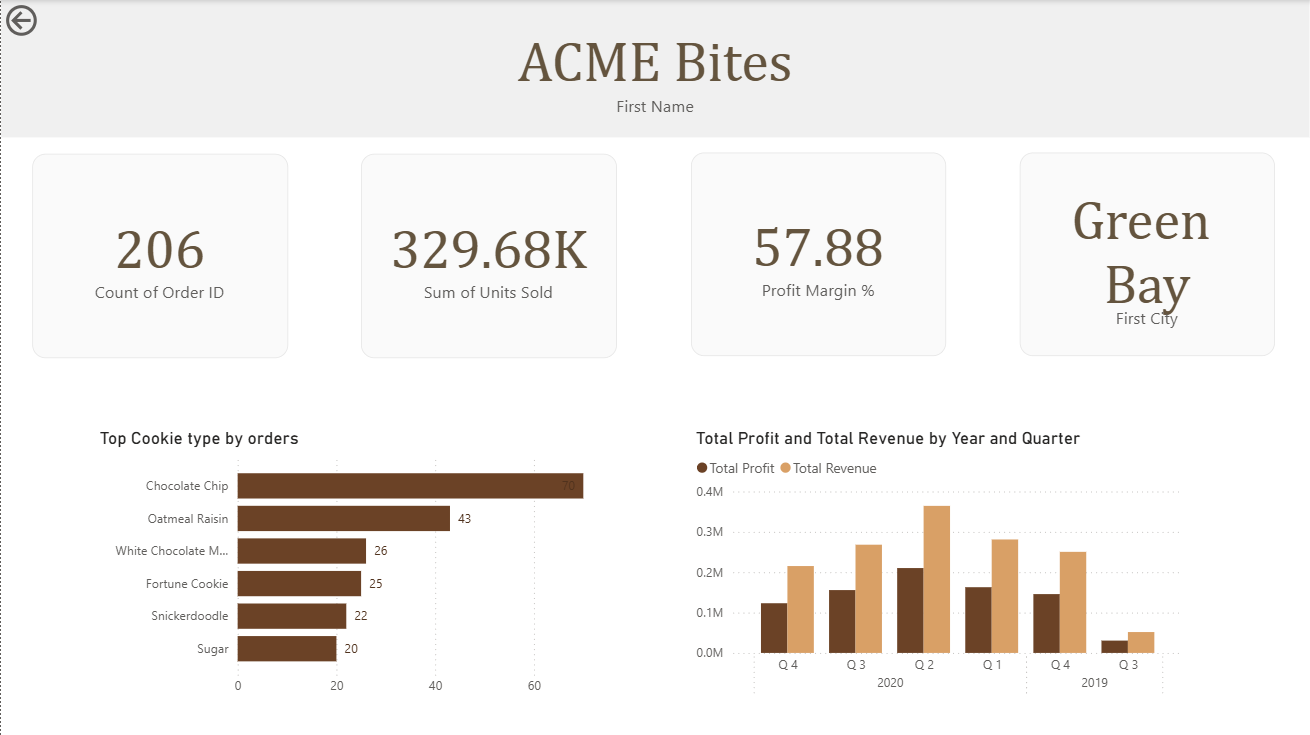

This screenshot's page, from the dashboard's own definition file:
{"tool":"powerbi","page":{"name":"Customers ","canvas":[1280,720],"ordinal":1},"visuals":[{"type":"card","fields":{"Values":["Customers.Name"]},"box":[0,0,1280.3,134.5],"z":0},{"type":"card","title":"Units Sold","fields":{"Values":["Orders.Units Sold"]},"box":[352.8,150,250,200],"z":1000},{"type":"card","fields":{"Values":["Customers.City"]},"box":[996.6,149.2,249.5,199.3],"z":2000},{"type":"card","title":"#Orders","fields":{"Values":["Orders.Order ID"]},"box":[30.6,150,250,200],"z":3000},{"type":"barChart","title":"Top Cookie type by orders","fields":{"Category":["Orders.Product"],"Y":["Orders.Order ID"]},"box":[91.7,418.2,509.9,271.5],"z":4000},{"type":"actionButton","box":[0,0,100,40],"z":5000},{"type":"card","fields":{"Values":["_Measure.Profit Margin %"]},"box":[675,149.2,249.5,199.3],"z":6000},{"type":"clusteredColumnChart","fields":{"Category":["_Date.Year","_Date.Quarter"],"Y":["_Measure.Total Profit","_Measure.Total Revenue"]},"box":[675,418.2,486.7,271.5],"z":7000}]}

Visuals, with their boxes on the page's 1280x720 design canvas (x1, y1, x2, y2). These are canvas units, not pixel positions in the 1310x735 screenshot, which may show the page scaled, cropped or inside an application window:
card - Customers.Name: 0,0,1280,134
"Units Sold" card: 353,150,603,350
card - Customers.City: 997,149,1246,348
"#Orders" card: 31,150,281,350
"Top Cookie type by orders" barChart: 92,418,602,690
actionButton: 0,0,100,40
card - _Measure.Profit Margin %: 675,149,924,348
clusteredColumnChart - _Date.Year x _Date.Quarter: 675,418,1162,690
